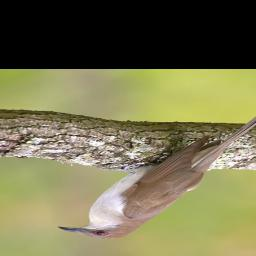Cuckoo: (55, 98, 256, 240)
